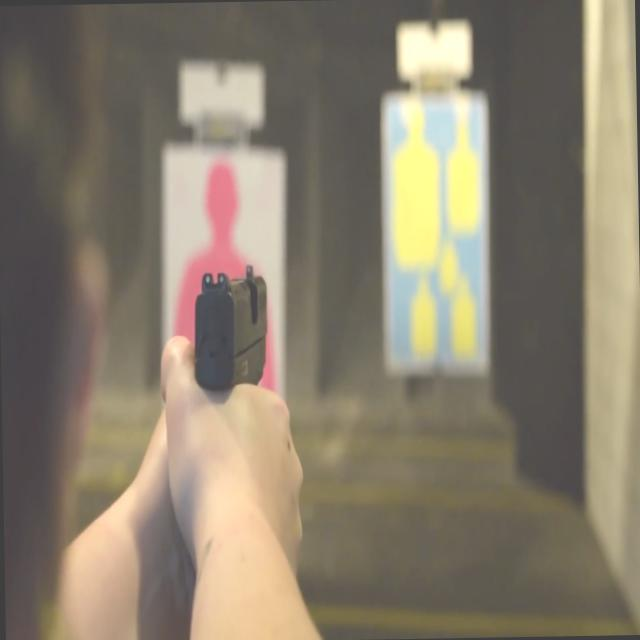handgun: (157, 239, 301, 533)
